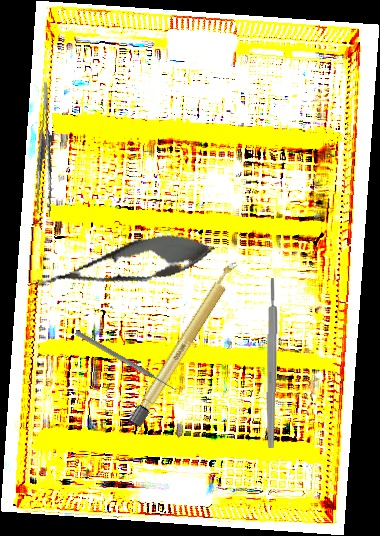Micro Scissor: (29, 223, 219, 307)
Pusher: (74, 329, 179, 394)
Scalpel Handle: (127, 258, 243, 429), (265, 277, 279, 449)
Tissue Forceps: (23, 81, 71, 218)
